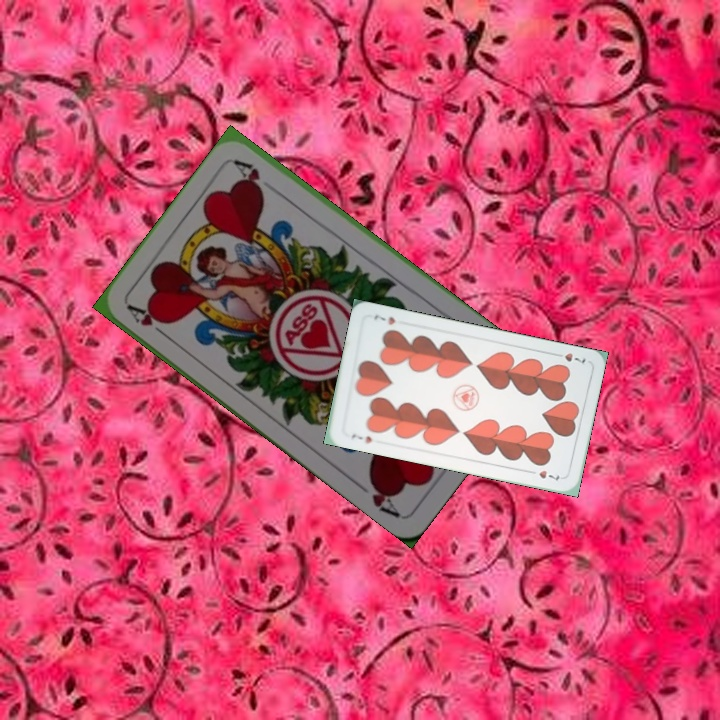H7: (550, 349, 588, 367), (347, 430, 375, 446)
HA: (123, 300, 174, 343)
